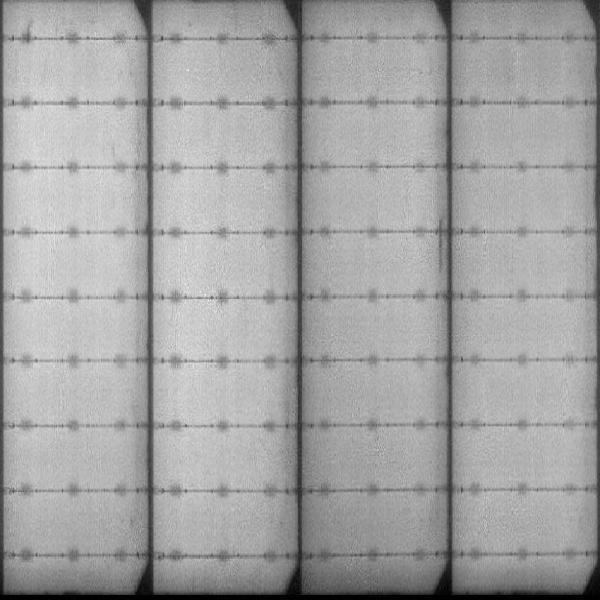scratch: (434, 220, 449, 275), (23, 21, 37, 39)
